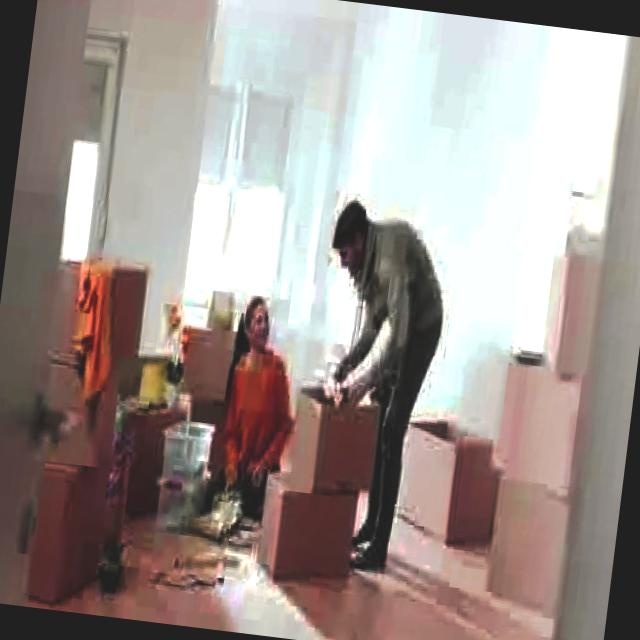Box: (391, 417, 504, 551), (281, 395, 384, 501), (483, 367, 575, 481), (258, 481, 359, 581), (484, 487, 574, 596), (533, 248, 601, 384)
